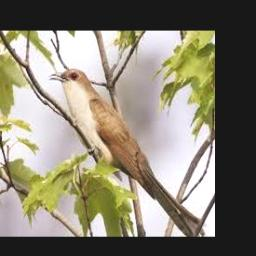Cuckoo: (48, 68, 207, 237)
